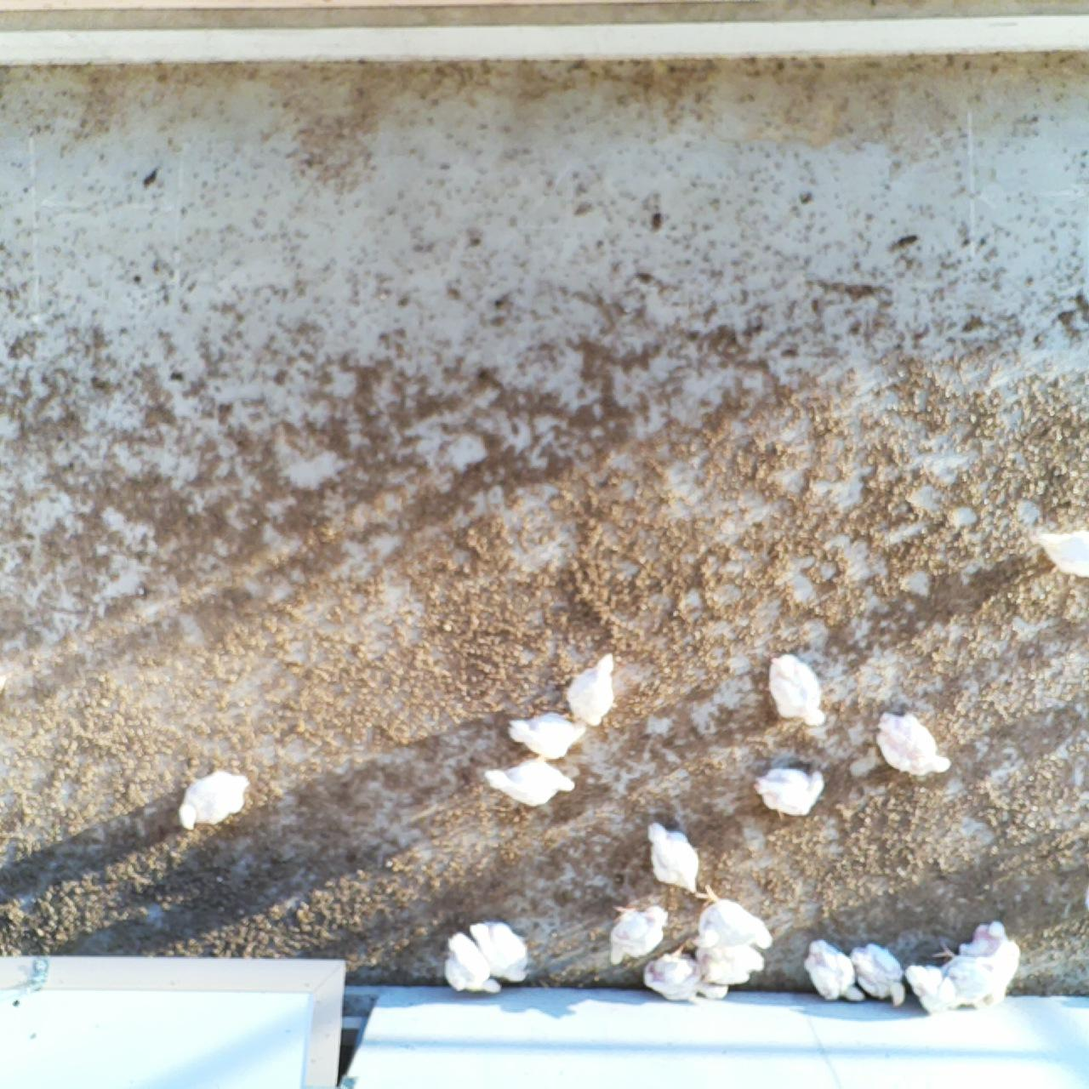chicken: (684, 882, 777, 953), (871, 706, 955, 783), (959, 916, 1023, 1005), (764, 649, 830, 729), (482, 754, 577, 809), (641, 818, 702, 899), (177, 767, 251, 833), (932, 937, 996, 1013), (750, 761, 828, 823), (603, 899, 671, 969), (800, 936, 866, 1006), (564, 651, 620, 730), (466, 918, 532, 985), (440, 929, 502, 1000), (506, 710, 588, 763), (848, 942, 910, 1012), (690, 932, 766, 989), (642, 942, 706, 1003), (1031, 525, 1089, 581), (900, 961, 958, 1015)
